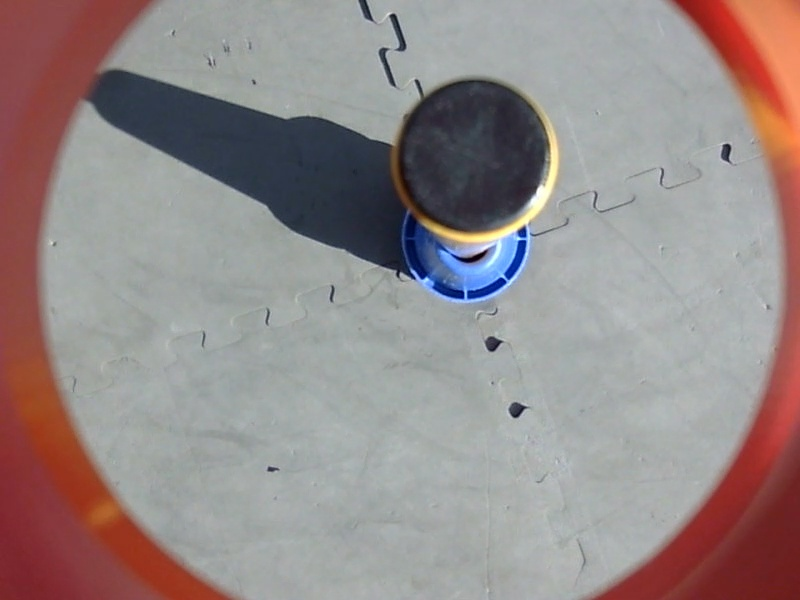tip: (385, 71, 566, 244)
